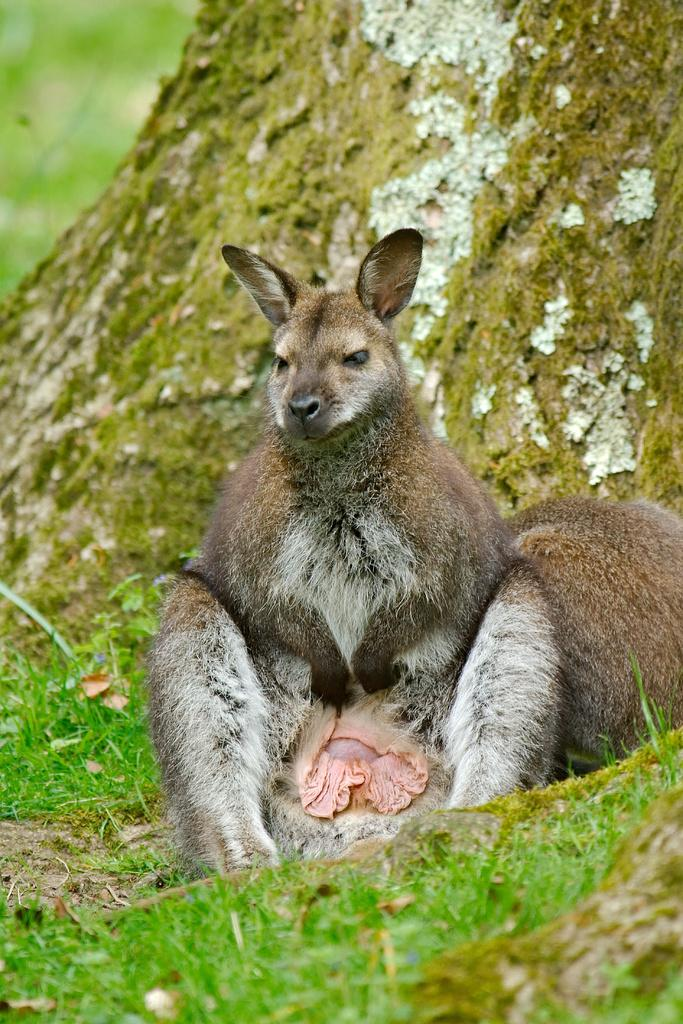kangaroo: (142, 232, 515, 876), (451, 486, 682, 813)
